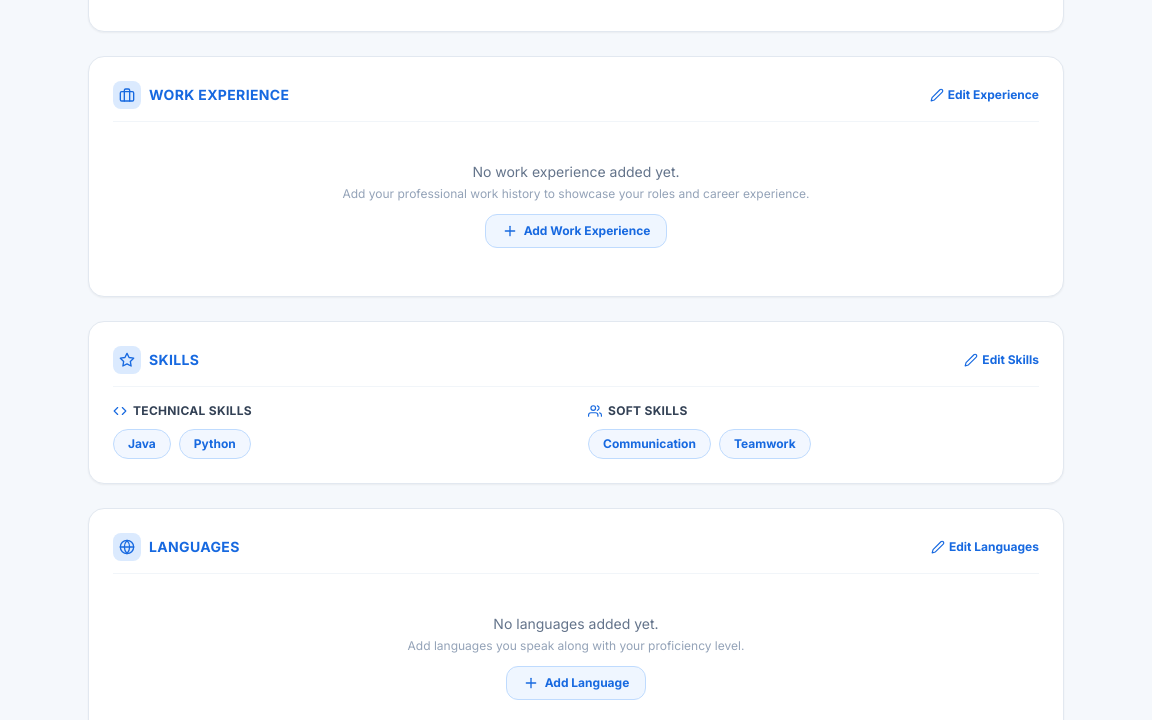
Scenario: JobSeekerProfile › adds a new skill to the selected category before saving
The image size is (1152, 720).
(page scrolled)
Click the button "Edit Skills": (1002, 360) x1=964 y1=352 x2=1039 y2=368
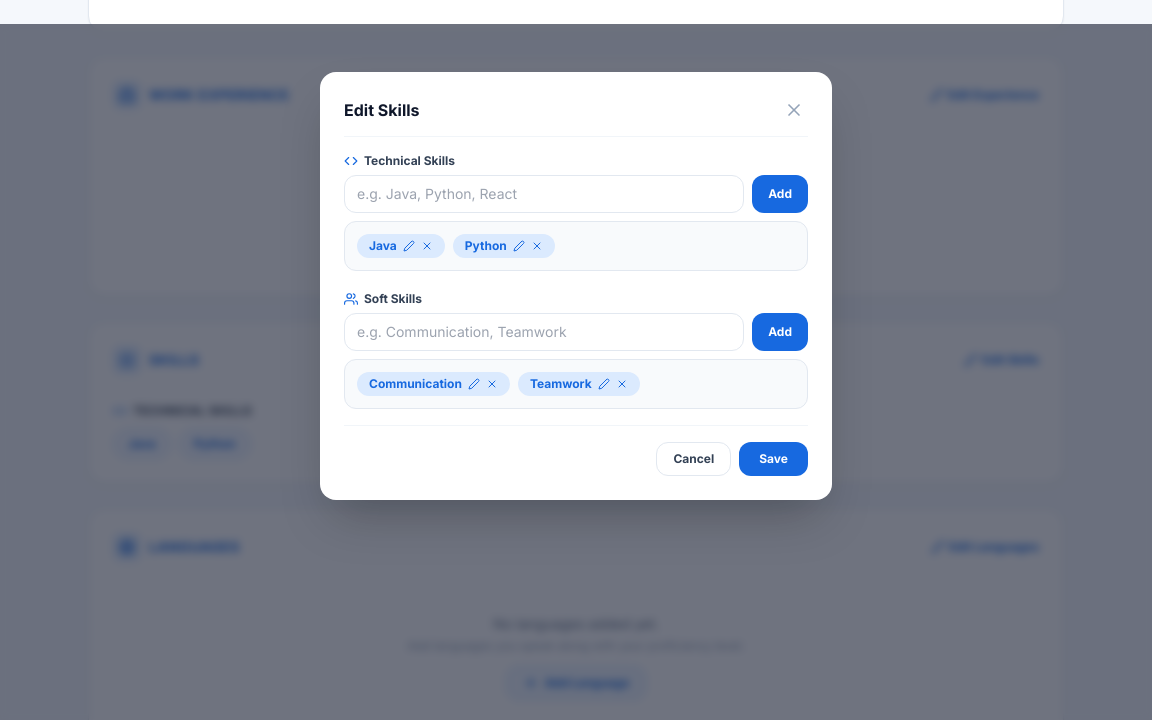
In the field with placeholder "e.g. Java, Python, React": (544, 194) x1=344 y1=175 x2=744 y2=213, type "Node.js"
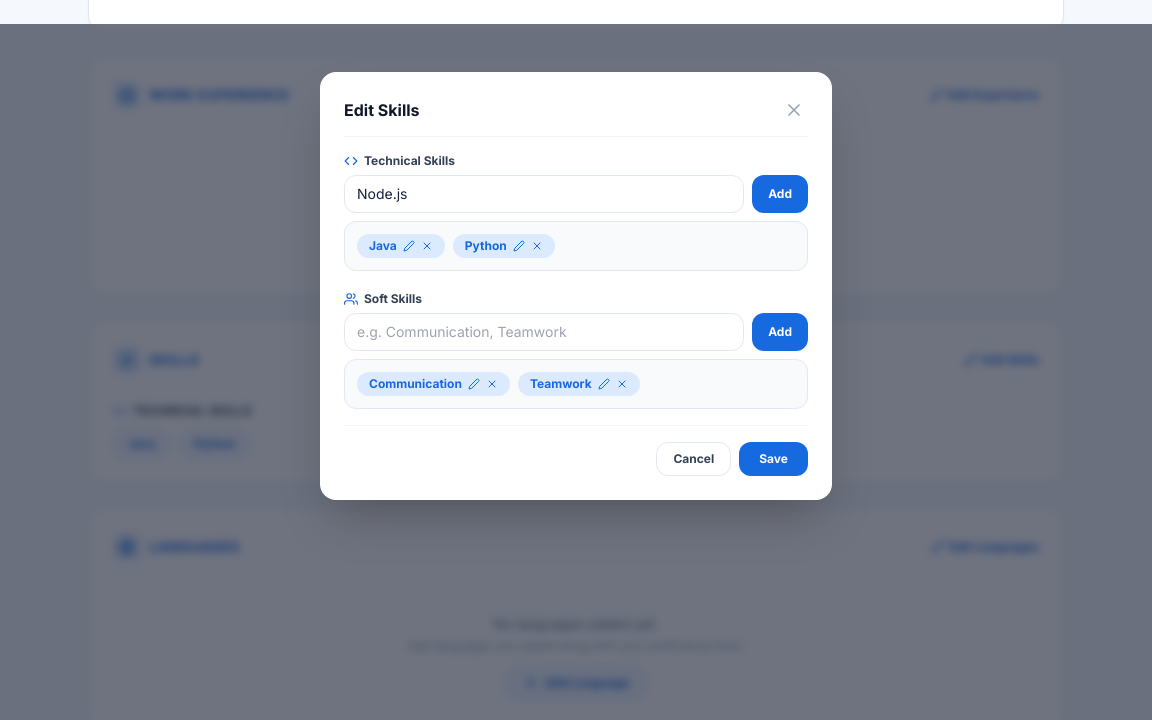
Click the 1st button "Add": (780, 194) x1=752 y1=175 x2=808 y2=213
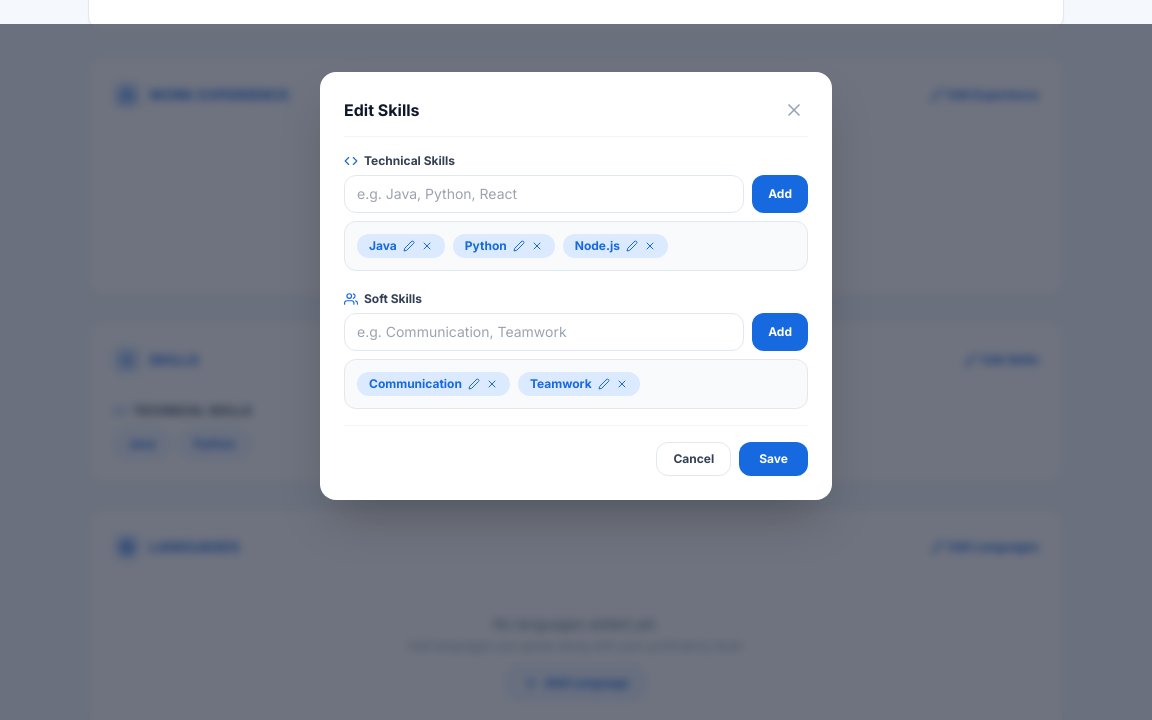
expect the text "Node.js" is shown: met, box x1=563 y1=234 x2=668 y2=258
In the field with placeholder "e.g. Communication, Teamwork": (544, 332) x1=344 y1=313 x2=744 y2=351, type "Adaptability"
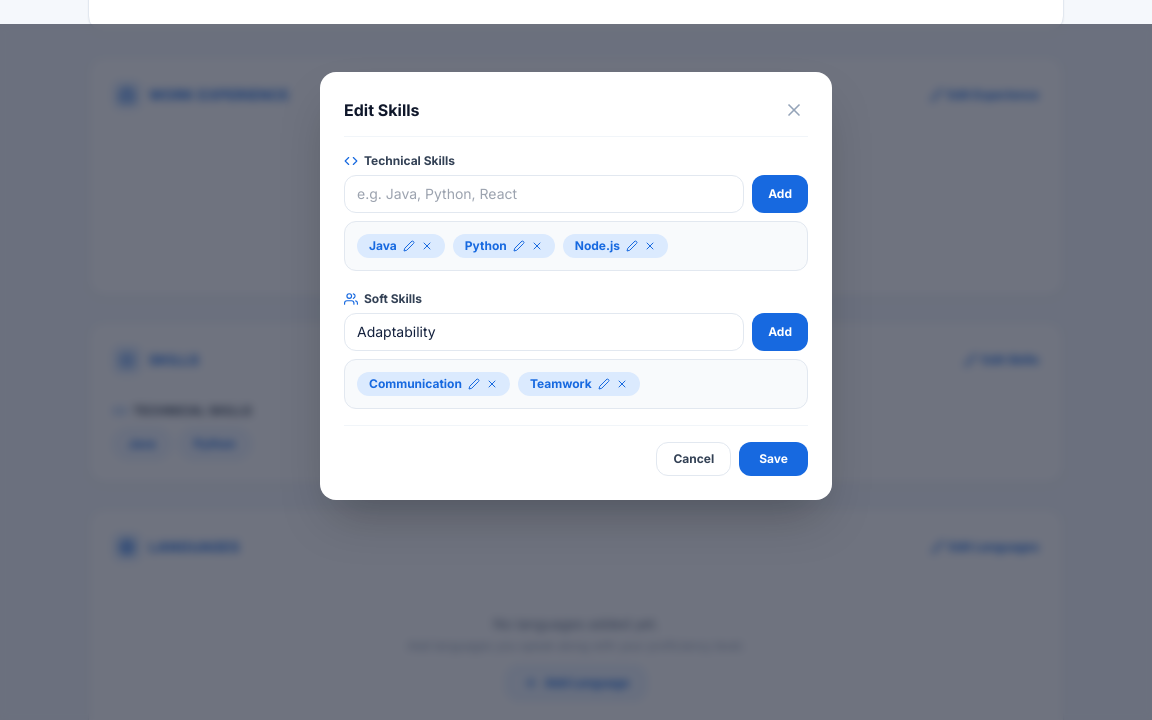
Click the 2nd button "Add": (780, 332) x1=752 y1=313 x2=808 y2=351
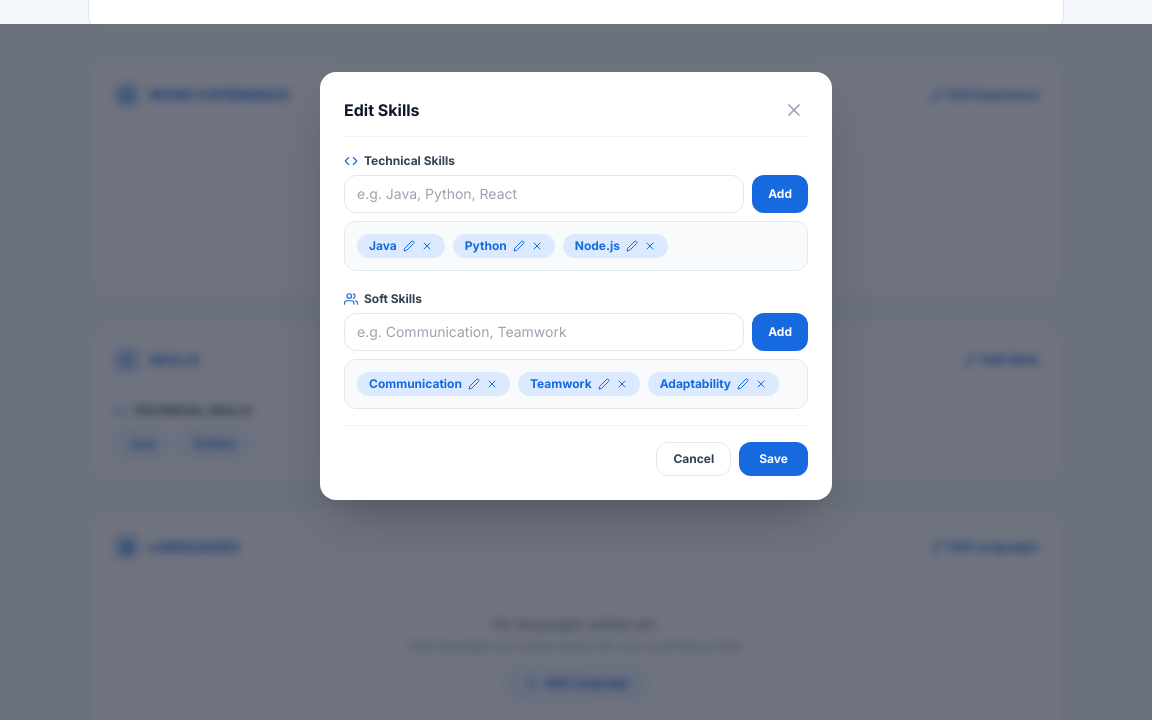
expect the text "Adaptability" is shown: met, box x1=648 y1=372 x2=779 y2=396
